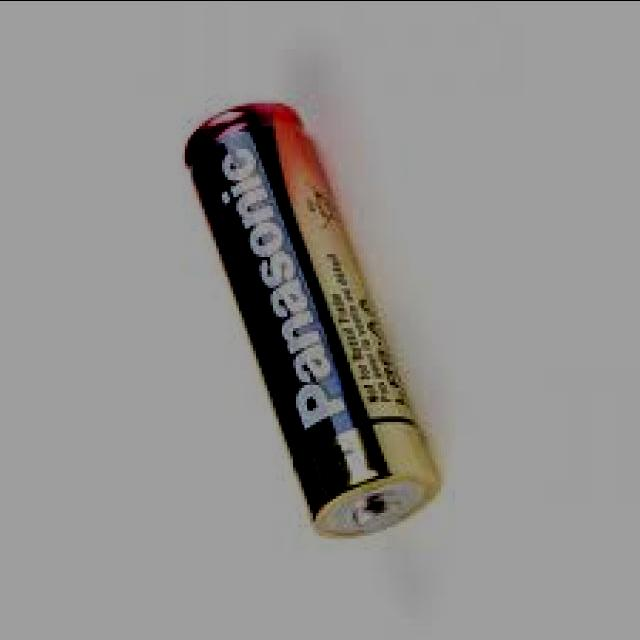AA: (180, 73, 440, 536)
